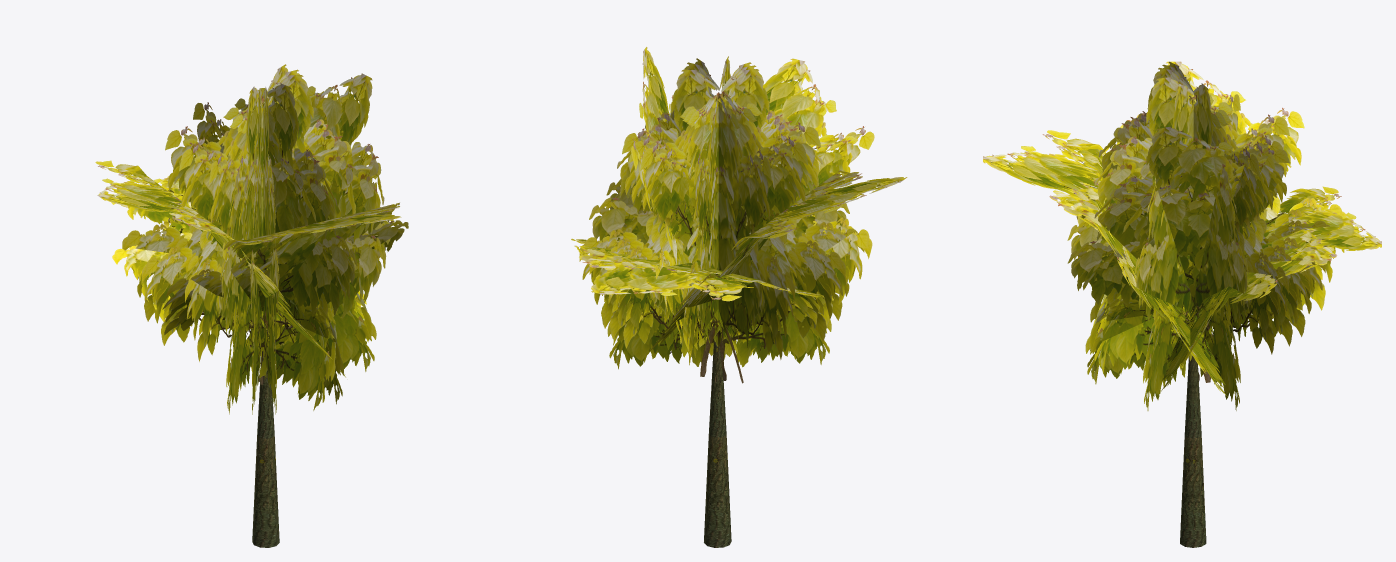
The model's file is tree A.FBX.
The picture shows the model from 3 angles, left to right: view 1: azimuth 30°, elevation 25°; view 2: azimuth 150°, elevation 25°; view 3: azimuth 270°, elevation 25°; orthographic projection.
Visible parts, largest first — view 1: Cylinder001; view 2: Cylinder001; view 3: Cylinder001.
Part boxes in pixels (x1,y1,x2,y2): Cylinder001: (95, 64, 408, 547); Cylinder001: (571, 47, 907, 547); Cylinder001: (983, 61, 1381, 547).
Size of the model in its own units: 32.02 by 49.85 by 38.59.
